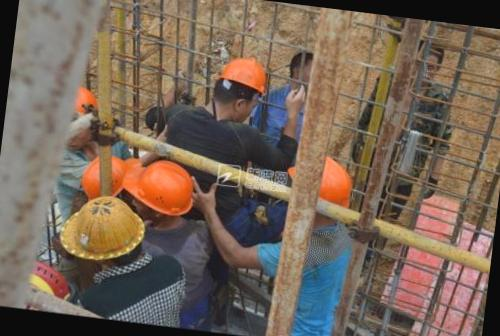no_helmet: (406, 32, 454, 94), (282, 45, 330, 100)
